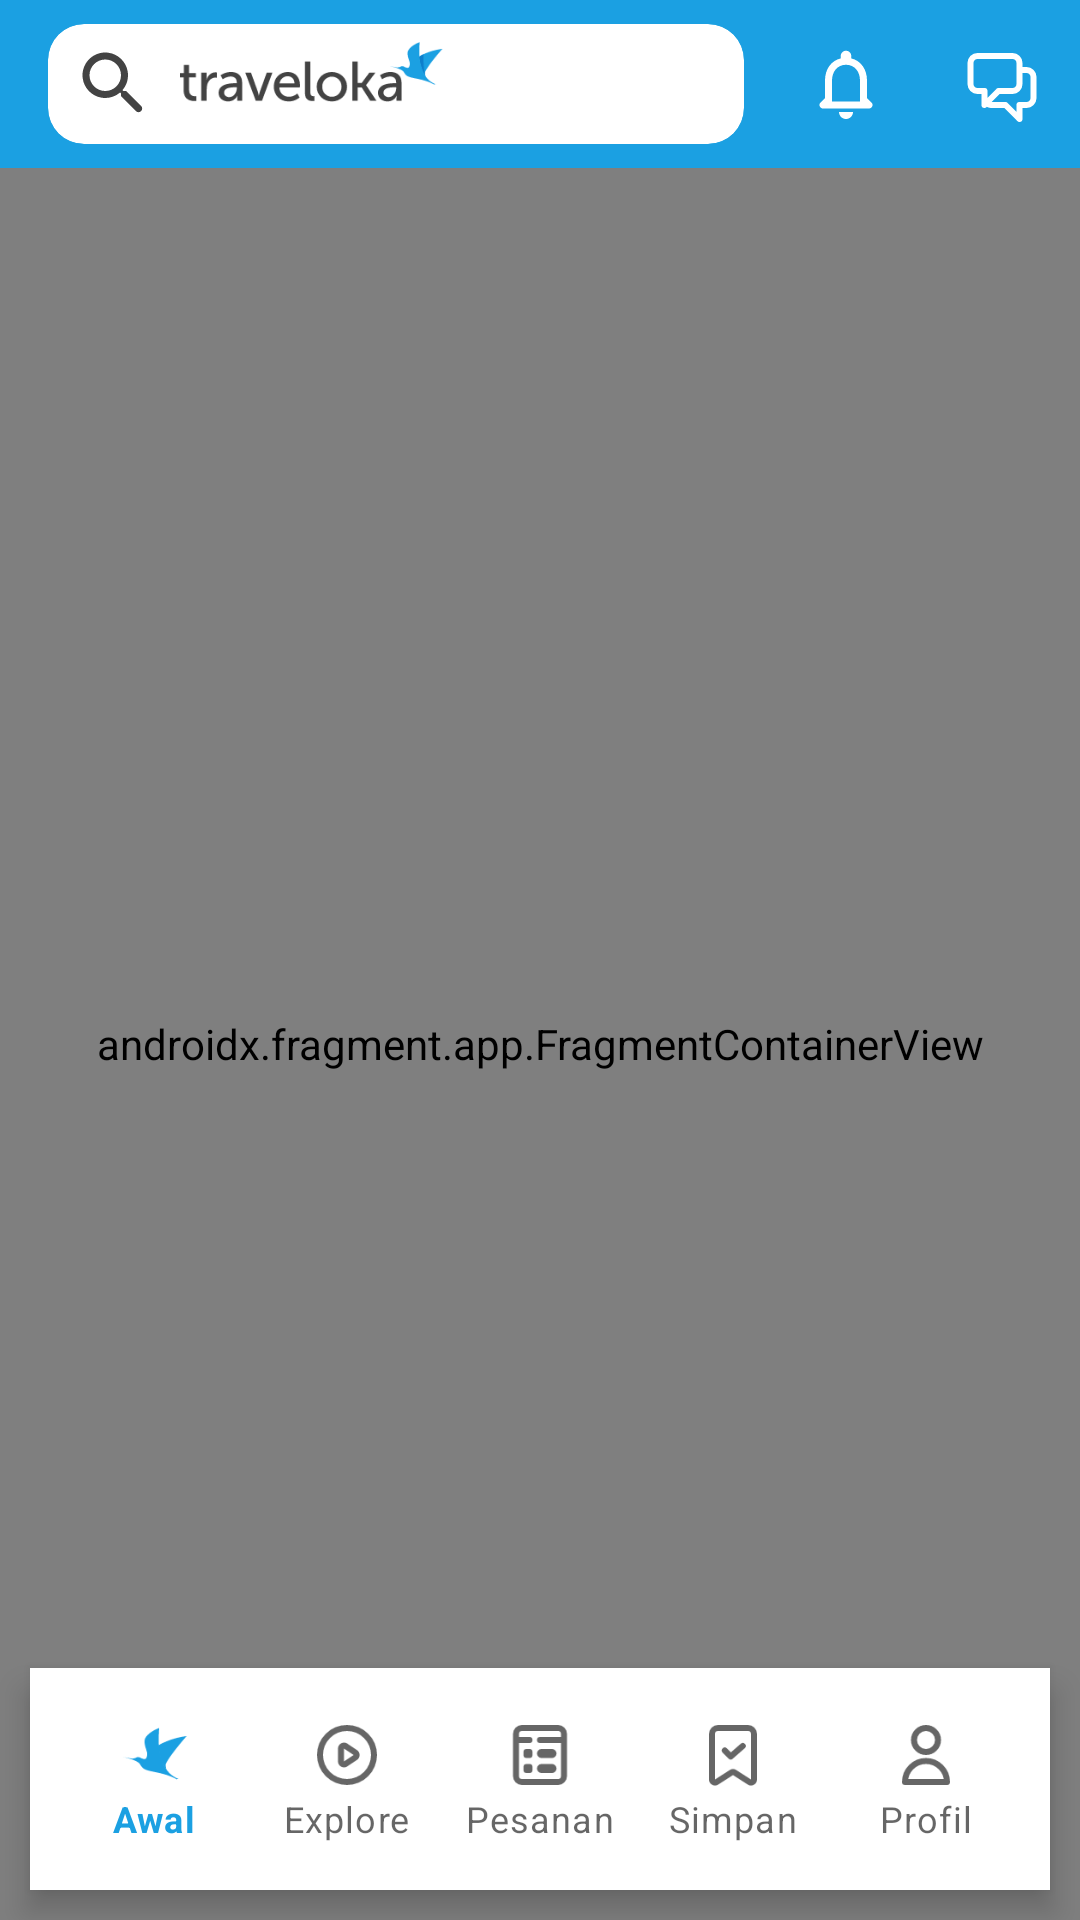

Where icons sit on this 1080×1920 app screen, as {"x1": x1, "y1": y1, "x2": x2, "y2": y2}:
search: {"x1": 82, "y1": 52, "x2": 142, "y2": 113}
